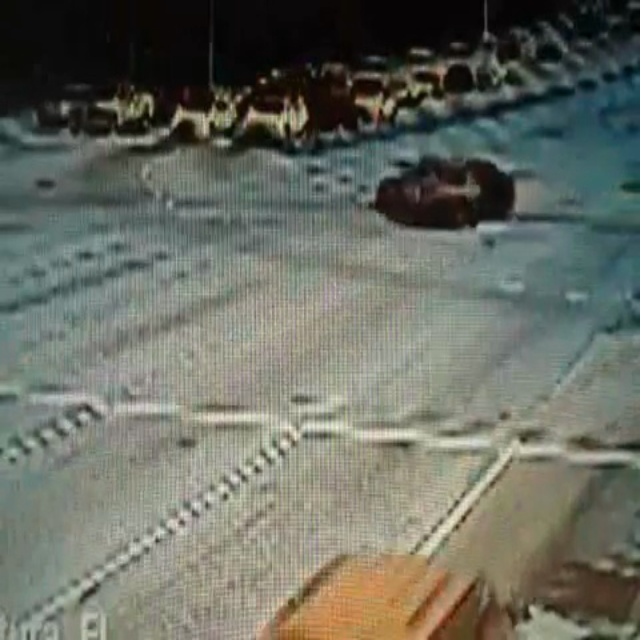acc: (371, 142, 523, 231)
